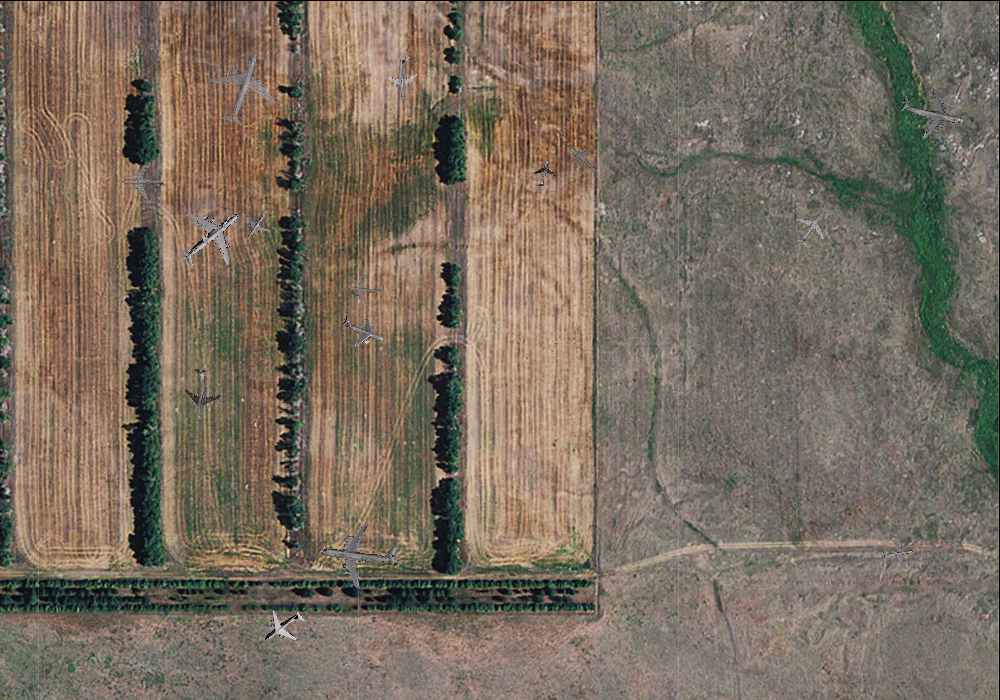plane: (162, 189, 258, 285), (197, 40, 288, 135), (315, 512, 401, 595), (894, 75, 970, 148), (253, 597, 313, 657), (172, 364, 226, 425), (335, 303, 391, 356), (786, 201, 838, 254), (556, 134, 607, 185), (382, 53, 425, 101), (120, 161, 167, 204), (235, 202, 278, 245), (342, 268, 384, 308), (881, 536, 915, 569), (529, 157, 558, 188)
